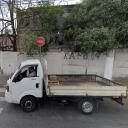Pare: (36, 36, 45, 47)
